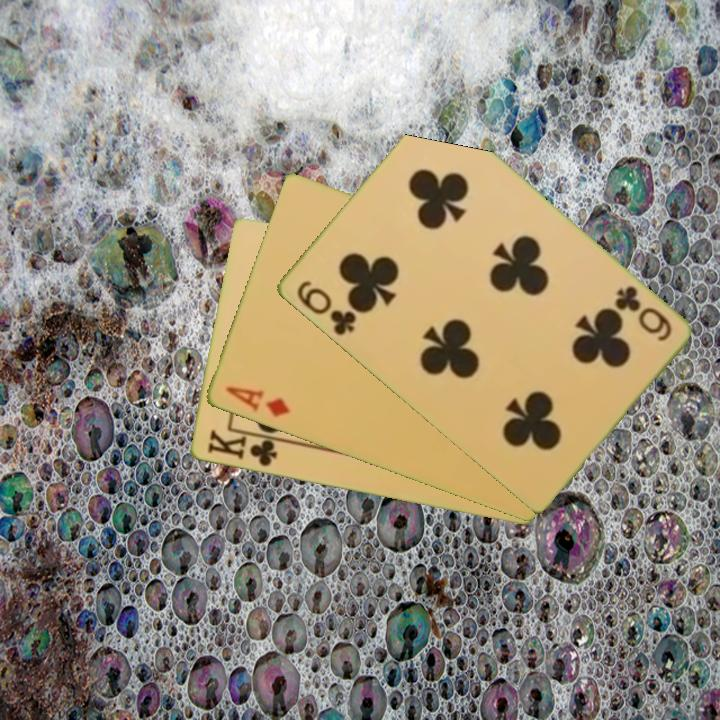6c: (292, 277, 359, 339), (610, 281, 674, 345)
Ad: (222, 383, 292, 421)
Kc: (203, 426, 285, 470)
